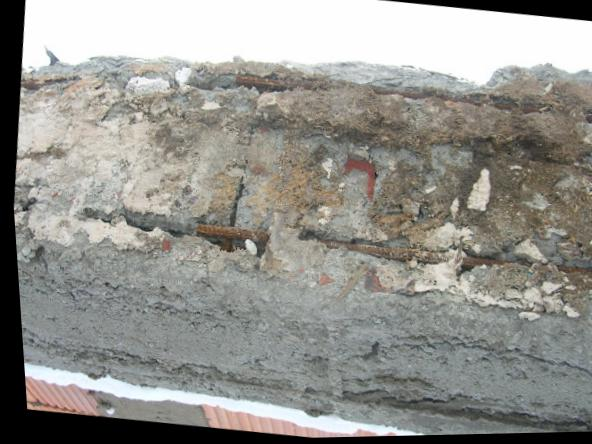damage: (11, 58, 592, 437)
